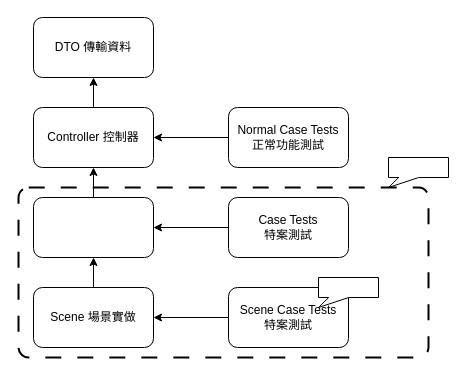
This 466x376 diagram has some shape labels left out. Here are the shapes that lost their labels. From the top down, the box of each, then its label:
(388, 156, 448, 188): front-end
(32, 196, 154, 258): Repo 倉庫
(318, 276, 378, 308): e2e
